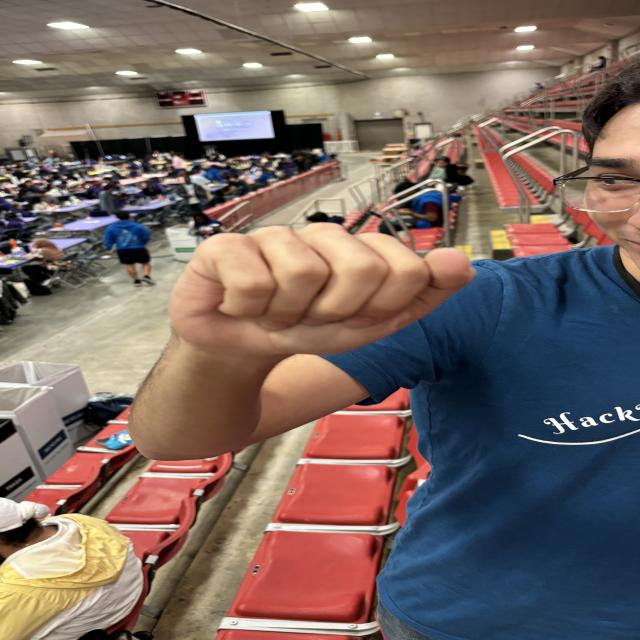A: (154, 212, 492, 374)
